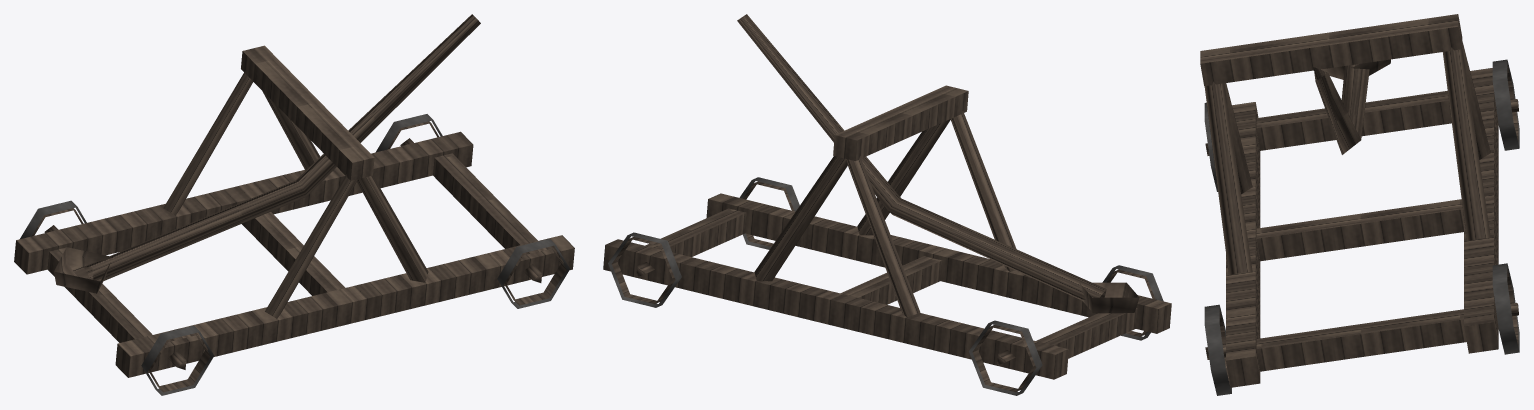
Rendered from Catapult_Burnt_1_LOD2.gltf.
3 views of the same model, side by side, from view 1: azimuth 30°, elevation 25°; view 2: azimuth 150°, elevation 25°; view 3: azimuth 270°, elevation 25° (orthographic). The views are drawn at different scales.
Visible parts, largest first — view 1: Catapult_Burnt_1_LOD2; view 2: Catapult_Burnt_1_LOD2; view 3: Catapult_Burnt_1_LOD2.
Boxes of the visible parts, x1,y1,x2,y2 form: Catapult_Burnt_1_LOD2: (14,14,574,395); Catapult_Burnt_1_LOD2: (603,14,1171,395); Catapult_Burnt_1_LOD2: (1200,14,1519,395).
Bounding box in the file's own units: 6.3 × 3.39 × 3.18.
2 materials, 2 textured.
